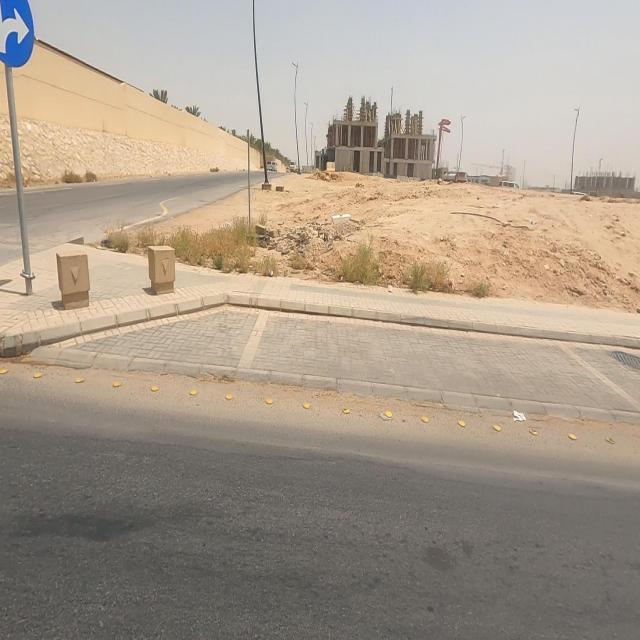debris: (492, 376, 541, 456)
